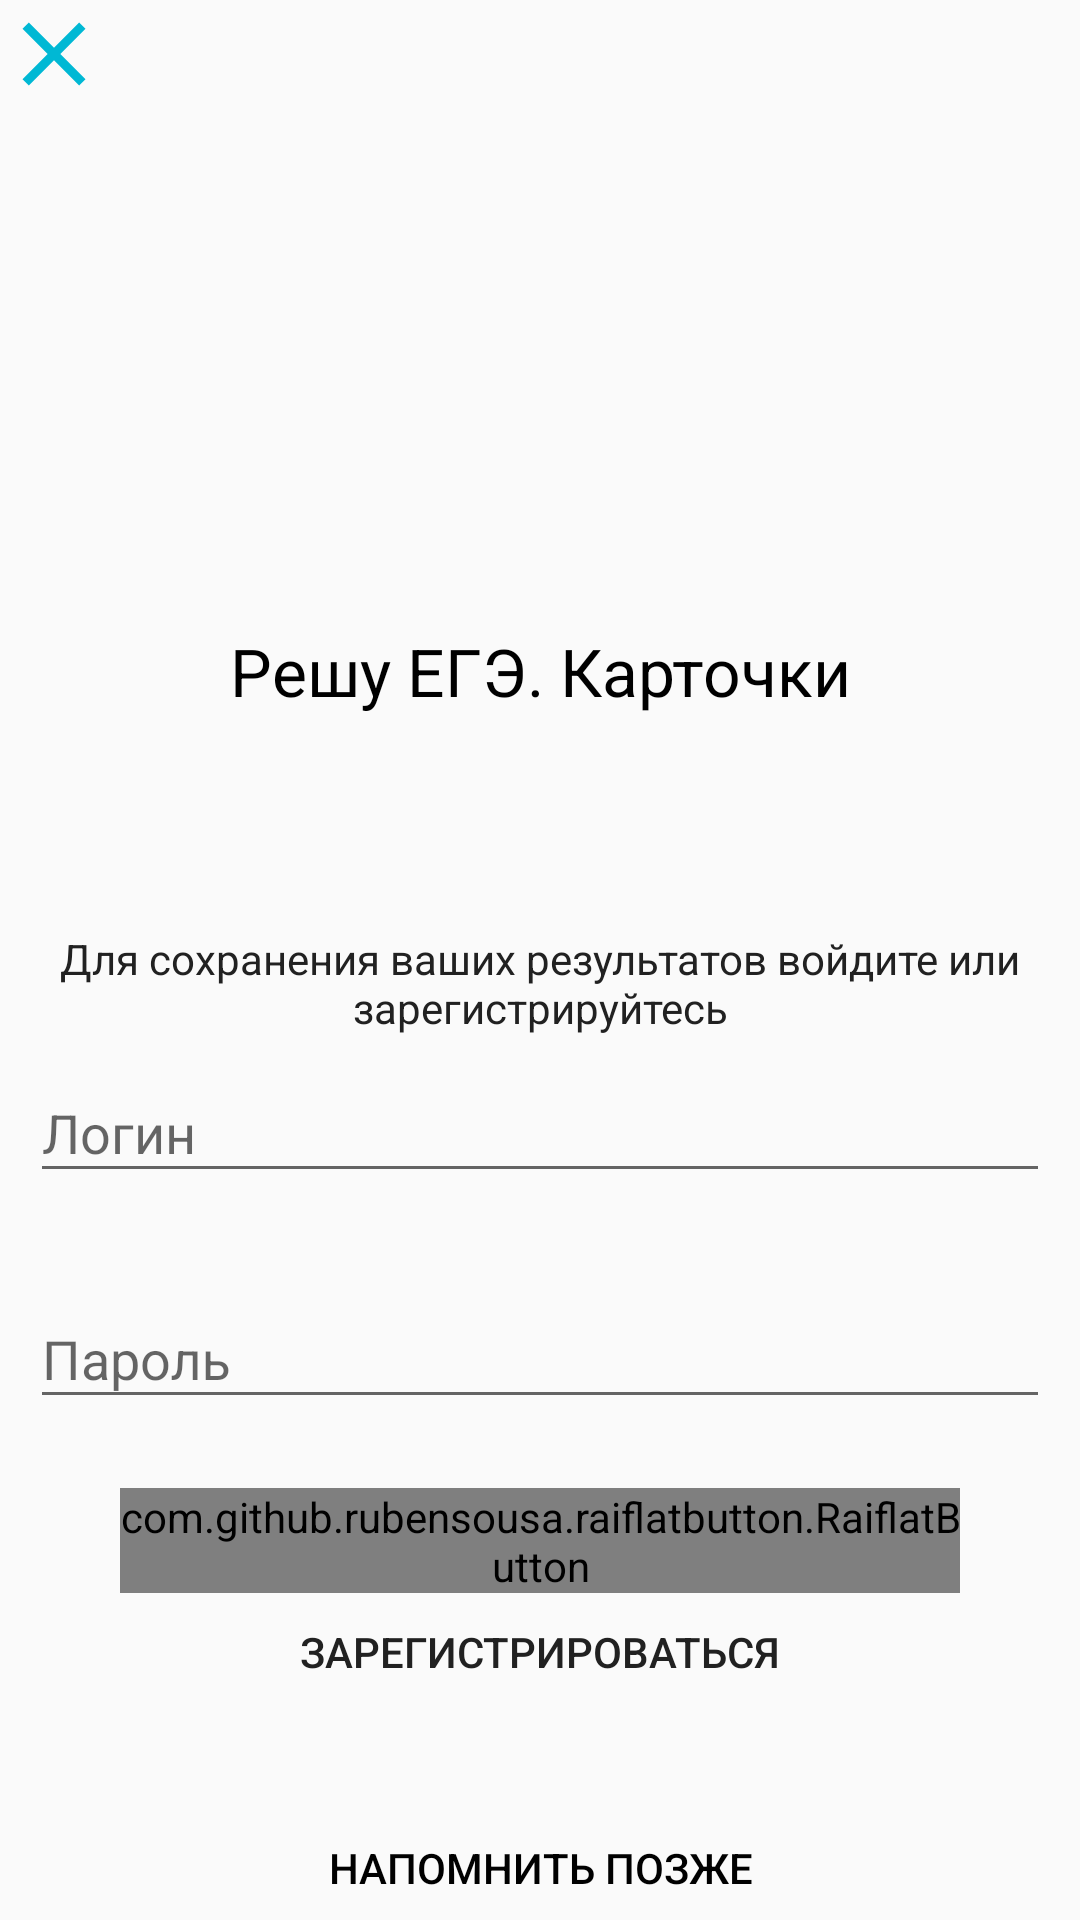

Icons on this 1080 × 1920 Android screen, each with the point to tap as point (x, y):
clear: point (54, 54)
